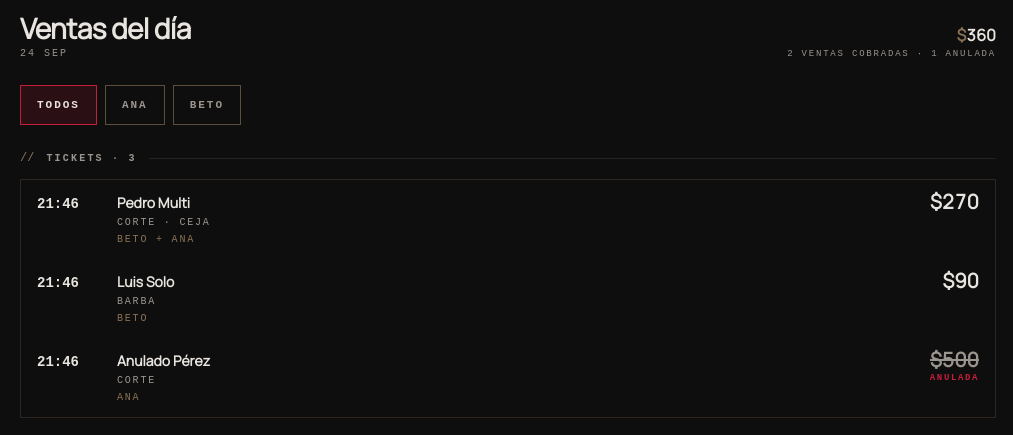
Test: DaySalesPage › filtering by a barber keeps multi-barber tickets they took part in
Expected: the text "Pedro Multi" is shown, [117,193,190,212]
Click the button "Ana".
click(135, 105)  # box [105,85,165,125]
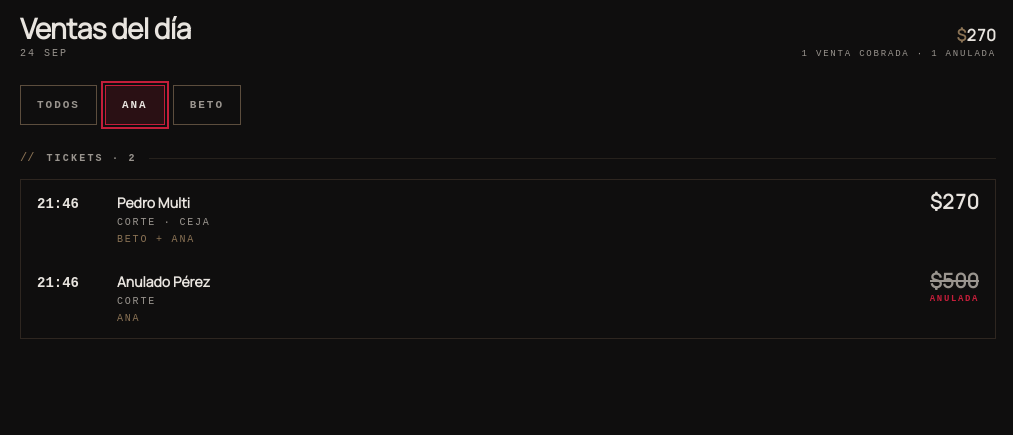
Expected: the text "Pedro Multi" is shown, [117,193,190,212]
Expected: the button "Luis Solo" is gone
Click the button "Beto".
click(207, 105)  # box [173,85,241,125]
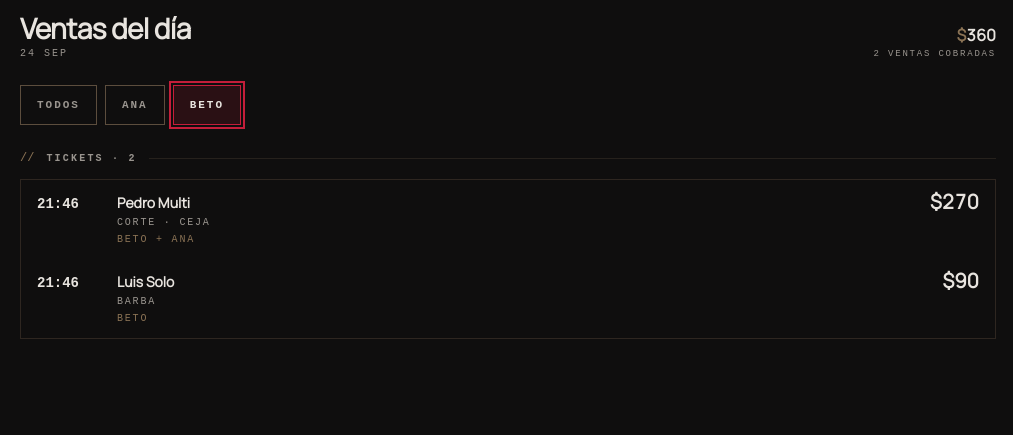
Expected: the text "Pedro Multi" is shown, [117,193,190,212]
Expected: the text "Luis Solo" is shown, [117,272,174,291]
Expected: the button "Anulado Pérez" is gone
Click the button "Todos".
click(58, 105)  # box [20,85,97,125]
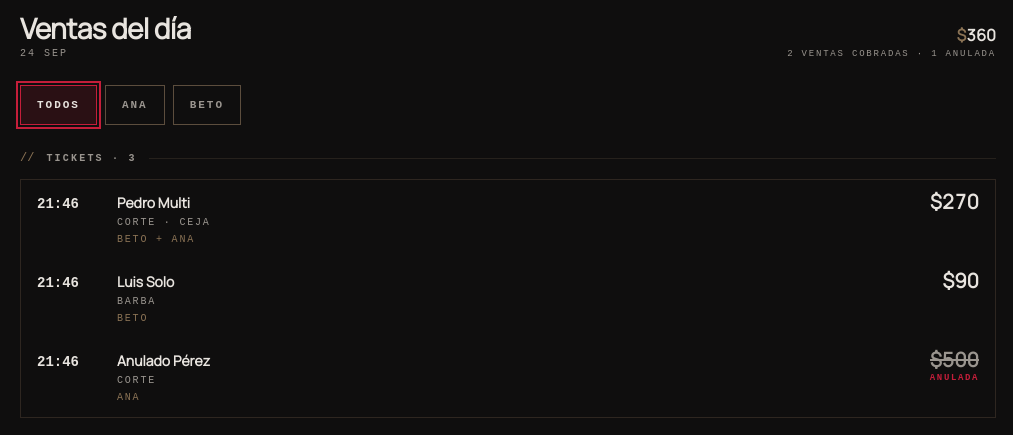
Expected: the text "Anulado Pérez" is shown, [117,351,210,370]
